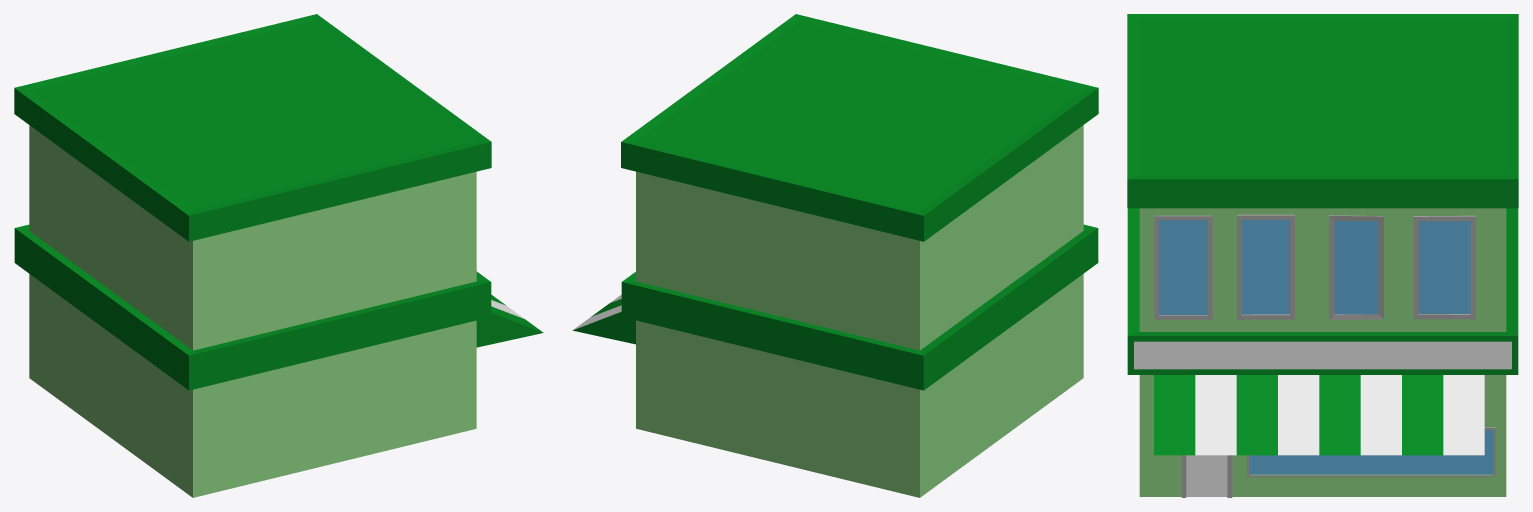
Rendered from Shop.fbx.
3 views of the same model, side by side, from view 1: azimuth 30°, elevation 25°; view 2: azimuth 150°, elevation 25°; view 3: azimuth 270°, elevation 25° (orthographic). The views are drawn at different scales.
Visible parts, largest first — view 1: Cube; view 2: Cube; view 3: Cube.
Boxes of the visible parts, bbox=[...] form: Cube: bbox=[14, 14, 543, 497]; Cube: bbox=[572, 14, 1098, 497]; Cube: bbox=[1127, 14, 1518, 497].
Bounding box in the file's own units: 259 × 194 × 213.
